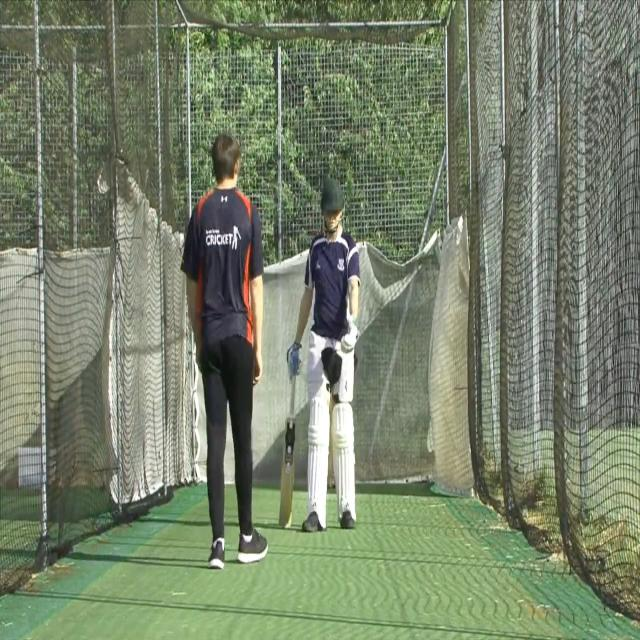batsman: (277, 174, 362, 536)
